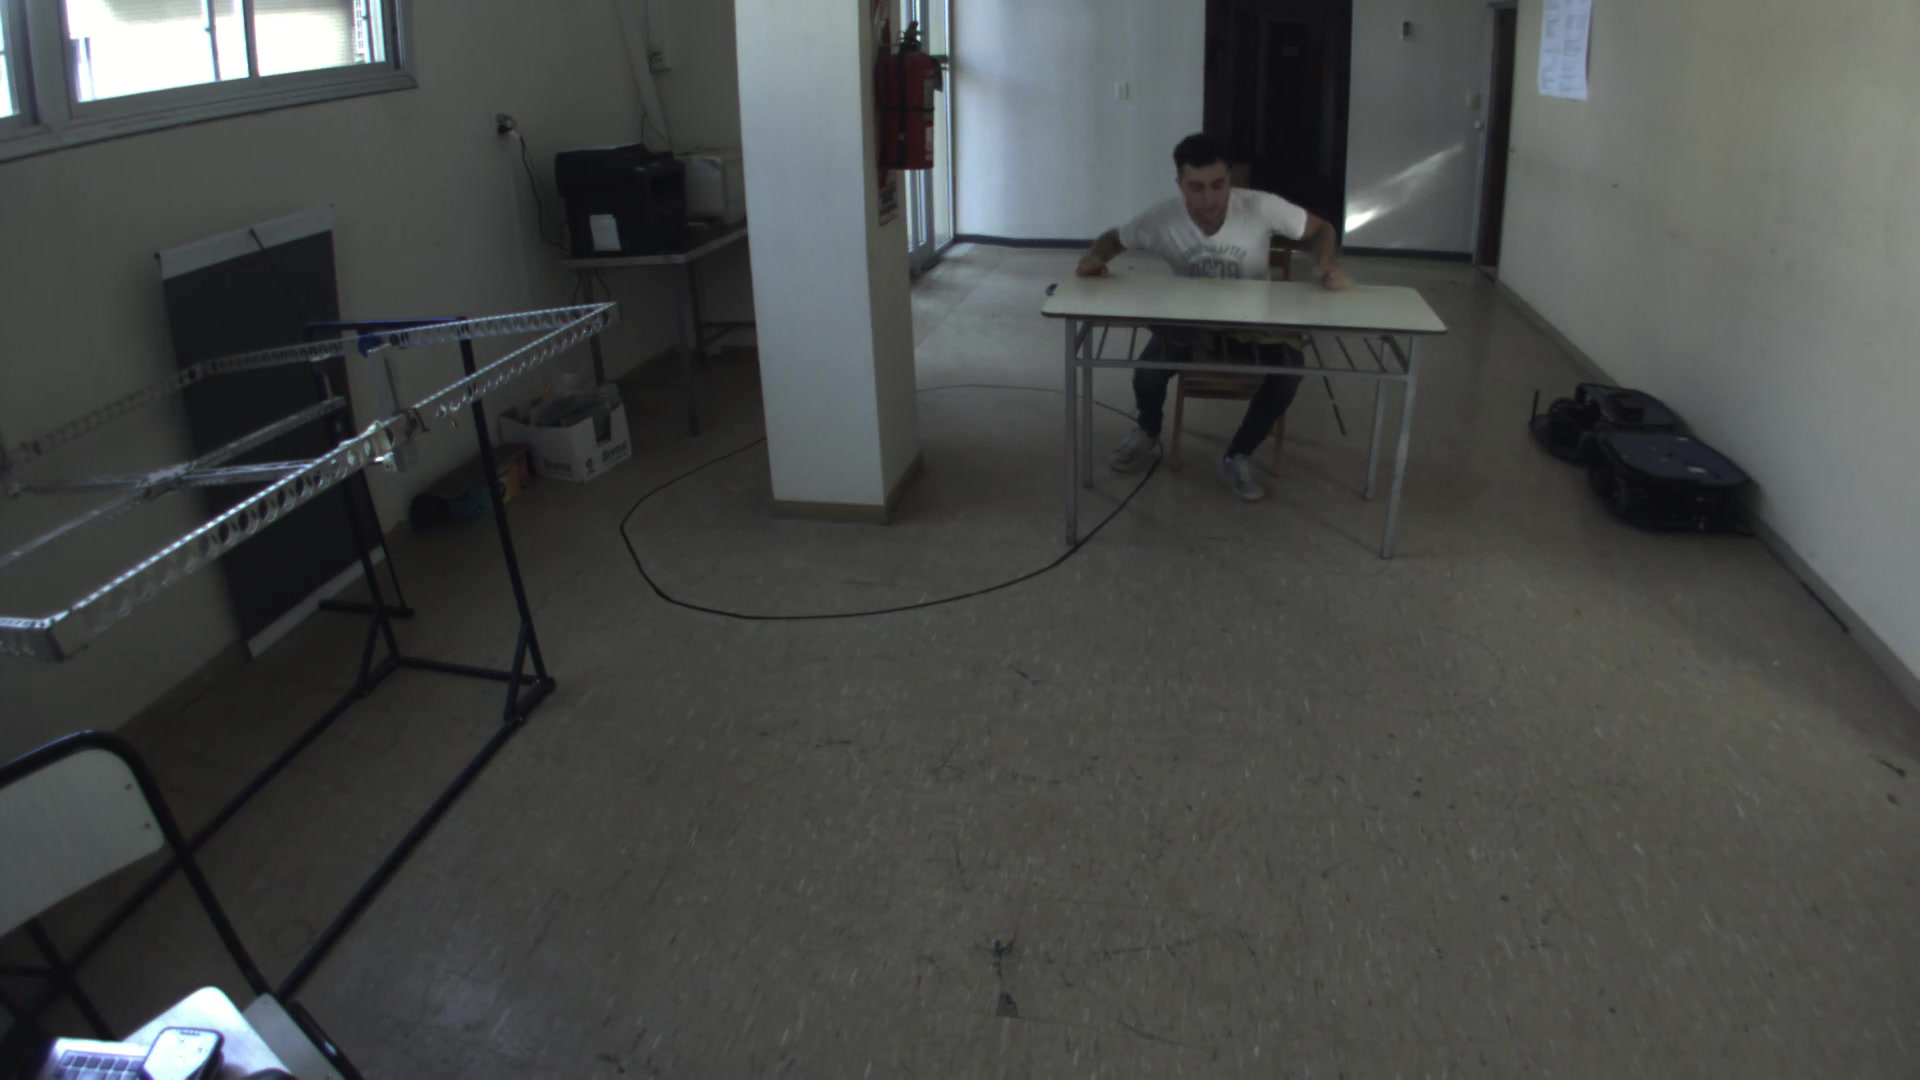hand: (1073, 227, 1134, 284), (1303, 253, 1360, 298)
